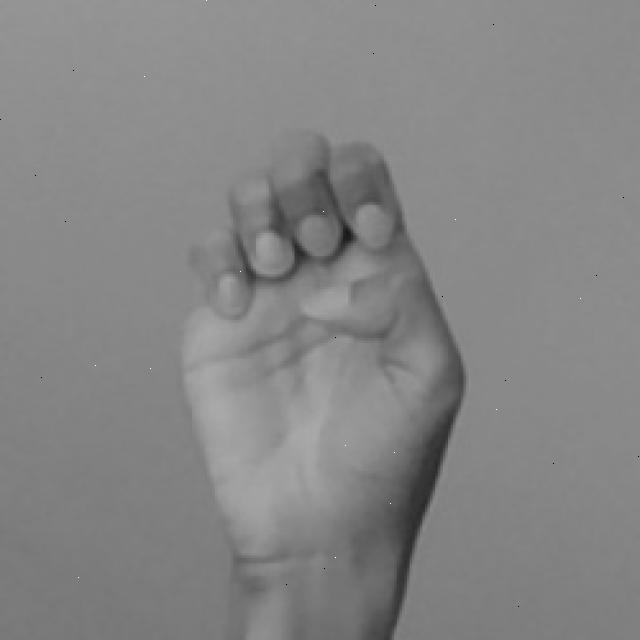E: (184, 133, 468, 640)
